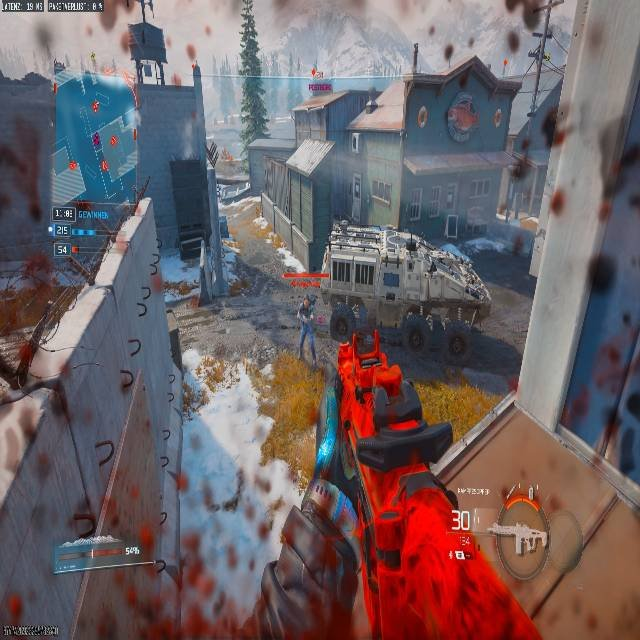player: (297, 291, 317, 359)
